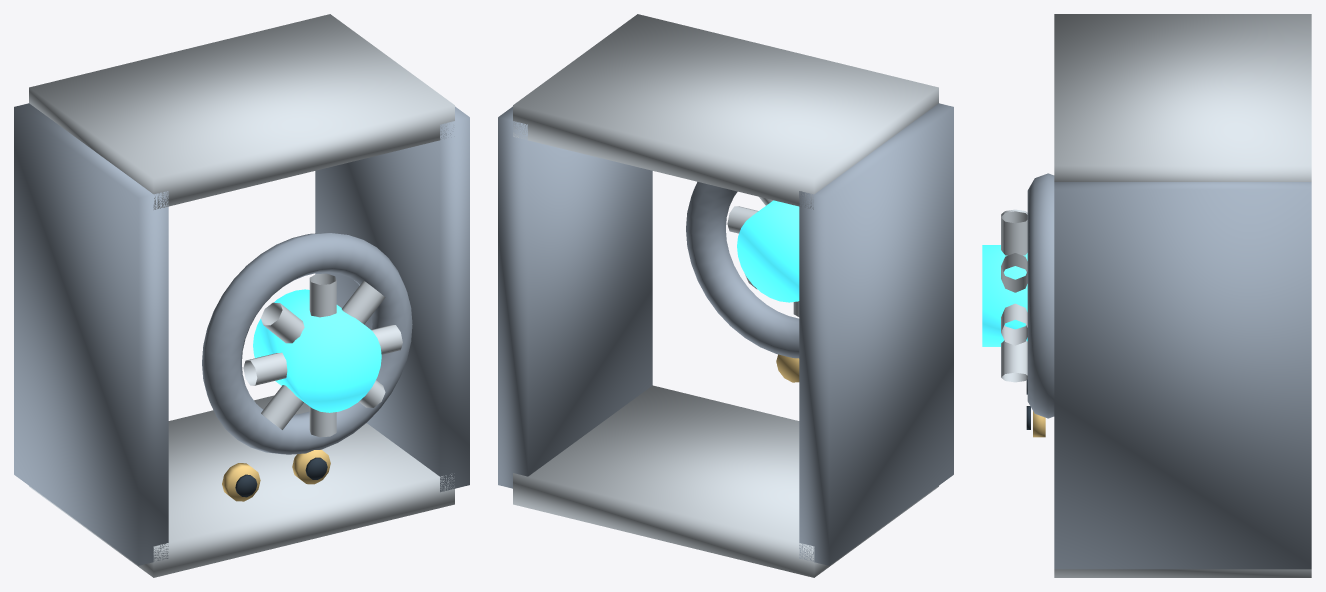
File: 76_L90_ThermalControlPumpRack.fbx
3 renders of one model, left to right at view 1: azimuth 30°, elevation 25°; view 2: azimuth 150°, elevation 25°; view 3: azimuth 270°, elevation 25°, orthographic. The views are drawn at different scales.
Parts seen in each view (by area): view 1: L90_ThermalControlPumpRack, L90_ThermalControlPumpRack_Part_0002, L90_ThermalControlPumpRack_Part_0003, L90_ThermalControlPumpRack_Part_0004, L90_ThermalControlPumpRack_Part_0006; view 2: L90_ThermalControlPumpRack, L90_ThermalControlPumpRack_Part_0002, L90_ThermalControlPumpRack_Part_0003; view 3: L90_ThermalControlPumpRack, L90_ThermalControlPumpRack_Part_0003, L90_ThermalControlPumpRack_Part_0002.
Boxes of the visible parts, x1,y1,x2,y2 form: L90_ThermalControlPumpRack: (14,14,469,577); L90_ThermalControlPumpRack_Part_0002: (253,289,381,412); L90_ThermalControlPumpRack_Part_0003: (243,273,402,437); L90_ThermalControlPumpRack_Part_0004: (222,463,260,501); L90_ThermalControlPumpRack_Part_0006: (292,449,330,484); L90_ThermalControlPumpRack: (498,14,953,577); L90_ThermalControlPumpRack_Part_0002: (737,200,799,302); L90_ThermalControlPumpRack_Part_0003: (727,197,799,316); L90_ThermalControlPumpRack: (1027,14,1311,577); L90_ThermalControlPumpRack_Part_0003: (1001,209,1027,382); L90_ThermalControlPumpRack_Part_0002: (982,245,1027,346).
Size of the model in its own units: 1.32 by 1.52 by 1.1.
